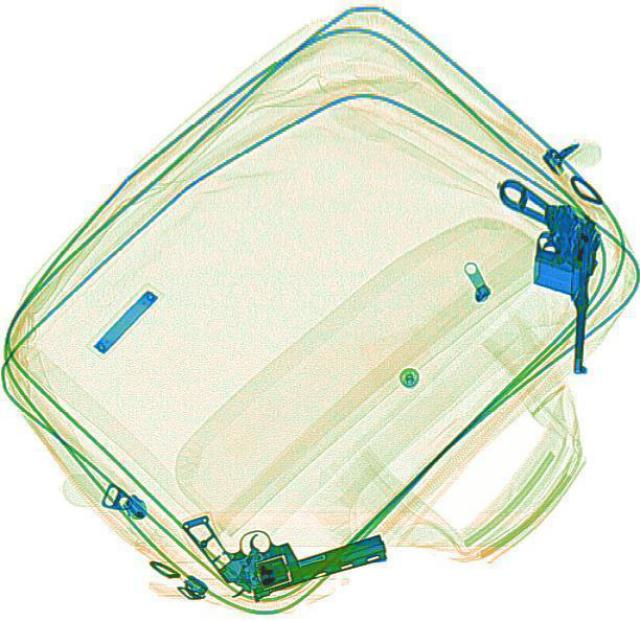Gun: (175, 471, 392, 613), (490, 174, 602, 373)
